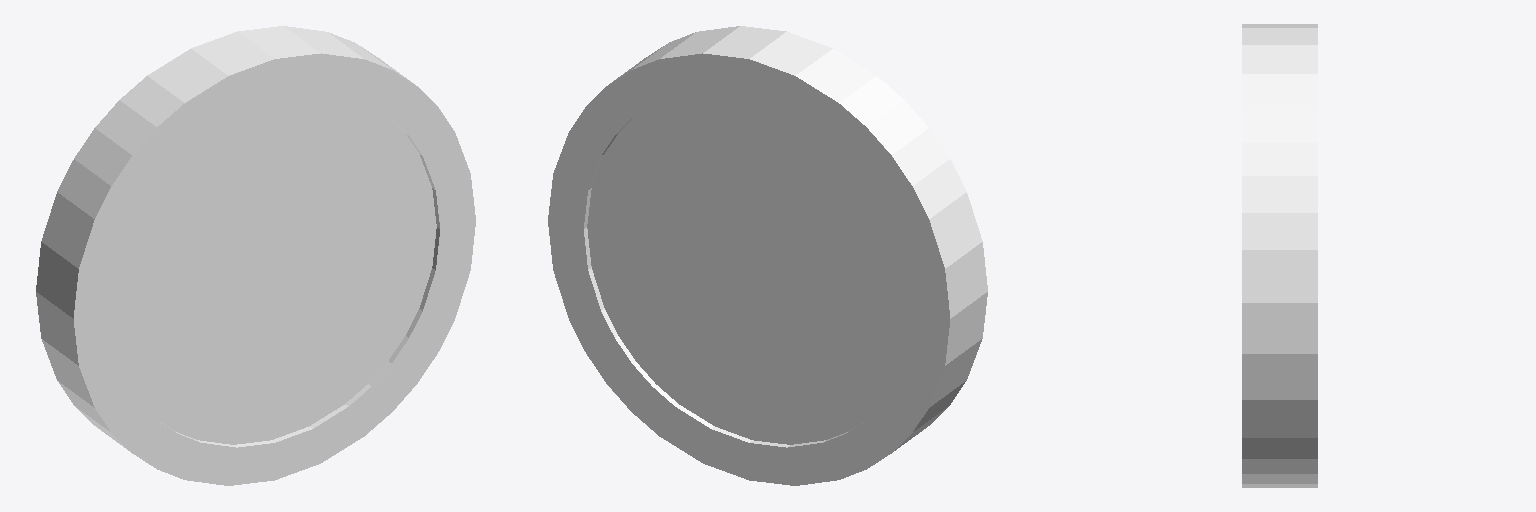
The model's file is Coin.obj.
3 renders of one model, left to right at view 1: azimuth 30°, elevation 25°; view 2: azimuth 150°, elevation 25°; view 3: azimuth 270°, elevation 25°, orthographic.
Parts seen in each view (by area): view 1: Coin; view 2: Coin; view 3: Coin.
Part boxes in pixels (x1,y1,x2,y2): Coin: (36, 26, 475, 485); Coin: (548, 26, 987, 485); Coin: (1242, 24, 1317, 487).
Size of the model in its own units: 2.76 by 2.76 by 0.447.